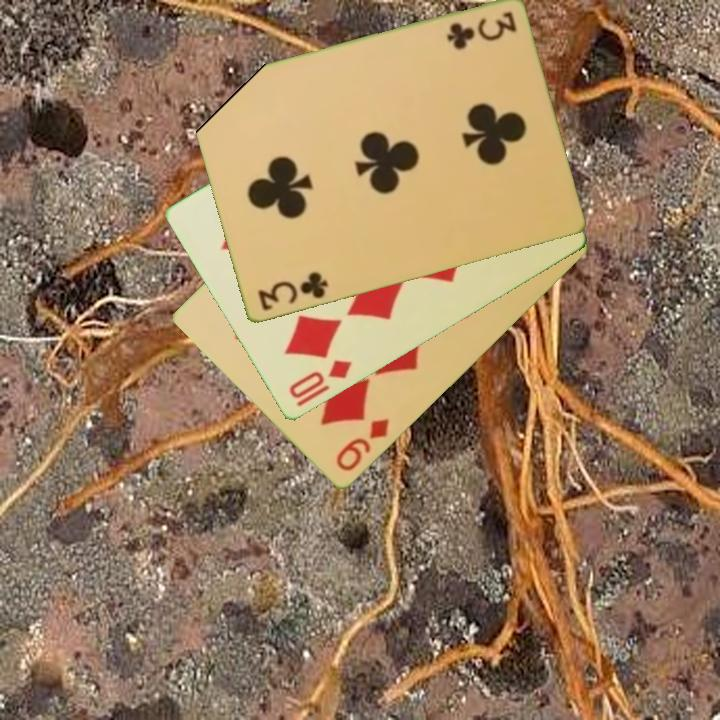10d: (285, 356, 355, 411)
3c: (254, 268, 331, 314), (442, 8, 519, 51)
9d: (332, 415, 392, 475)
